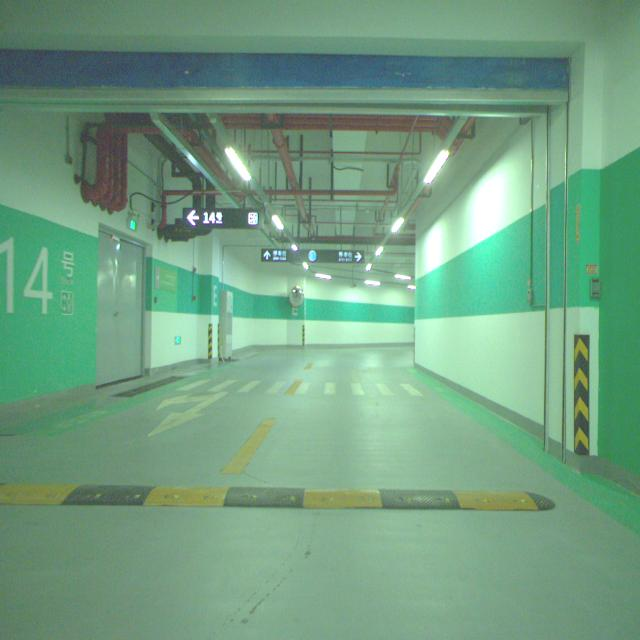wall: (199, 240, 222, 369)
